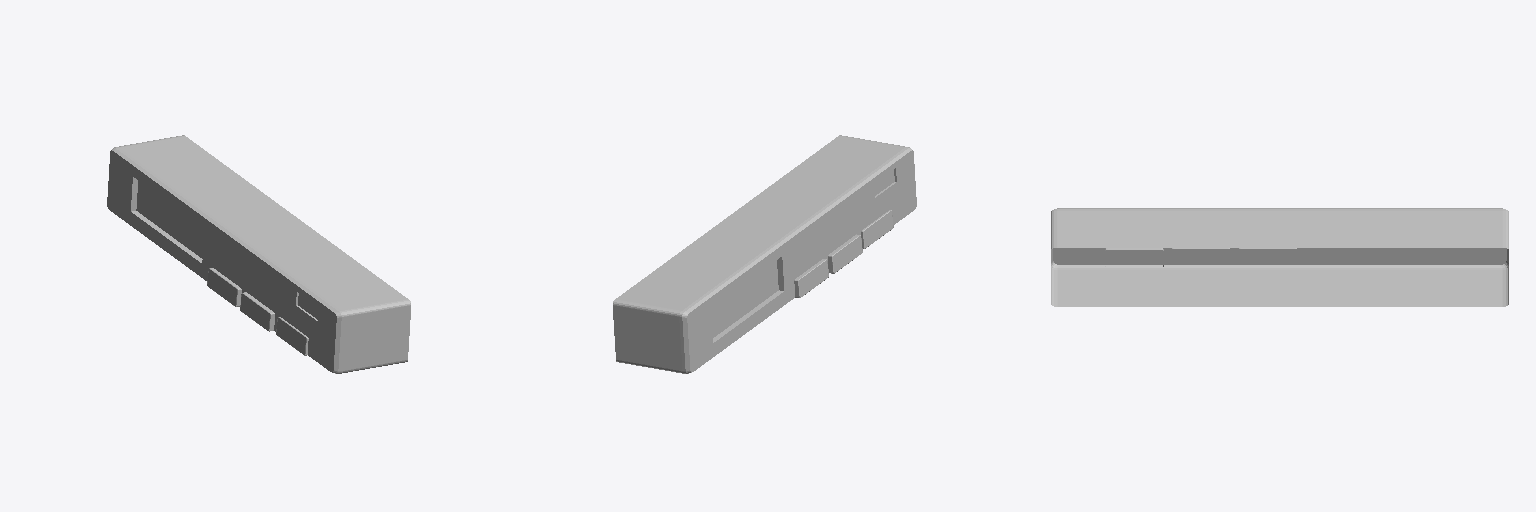
The model's file is cassete_compuerta.obj.
3 views of the same model, side by side, from view 1: azimuth 30°, elevation 25°; view 2: azimuth 150°, elevation 25°; view 3: azimuth 270°, elevation 25° (orthographic).
Parts seen in each view (by area): view 1: polySurface570; view 2: polySurface570; view 3: polySurface570.
Boxes of the visible parts, <box> form: polySurface570: <box>107,135,410,373</box>; polySurface570: <box>613,135,916,373</box>; polySurface570: <box>1051,208,1508,306</box>.
Bounding box in the file's own units: 0.1593 × 0.1218 × 0.7688.